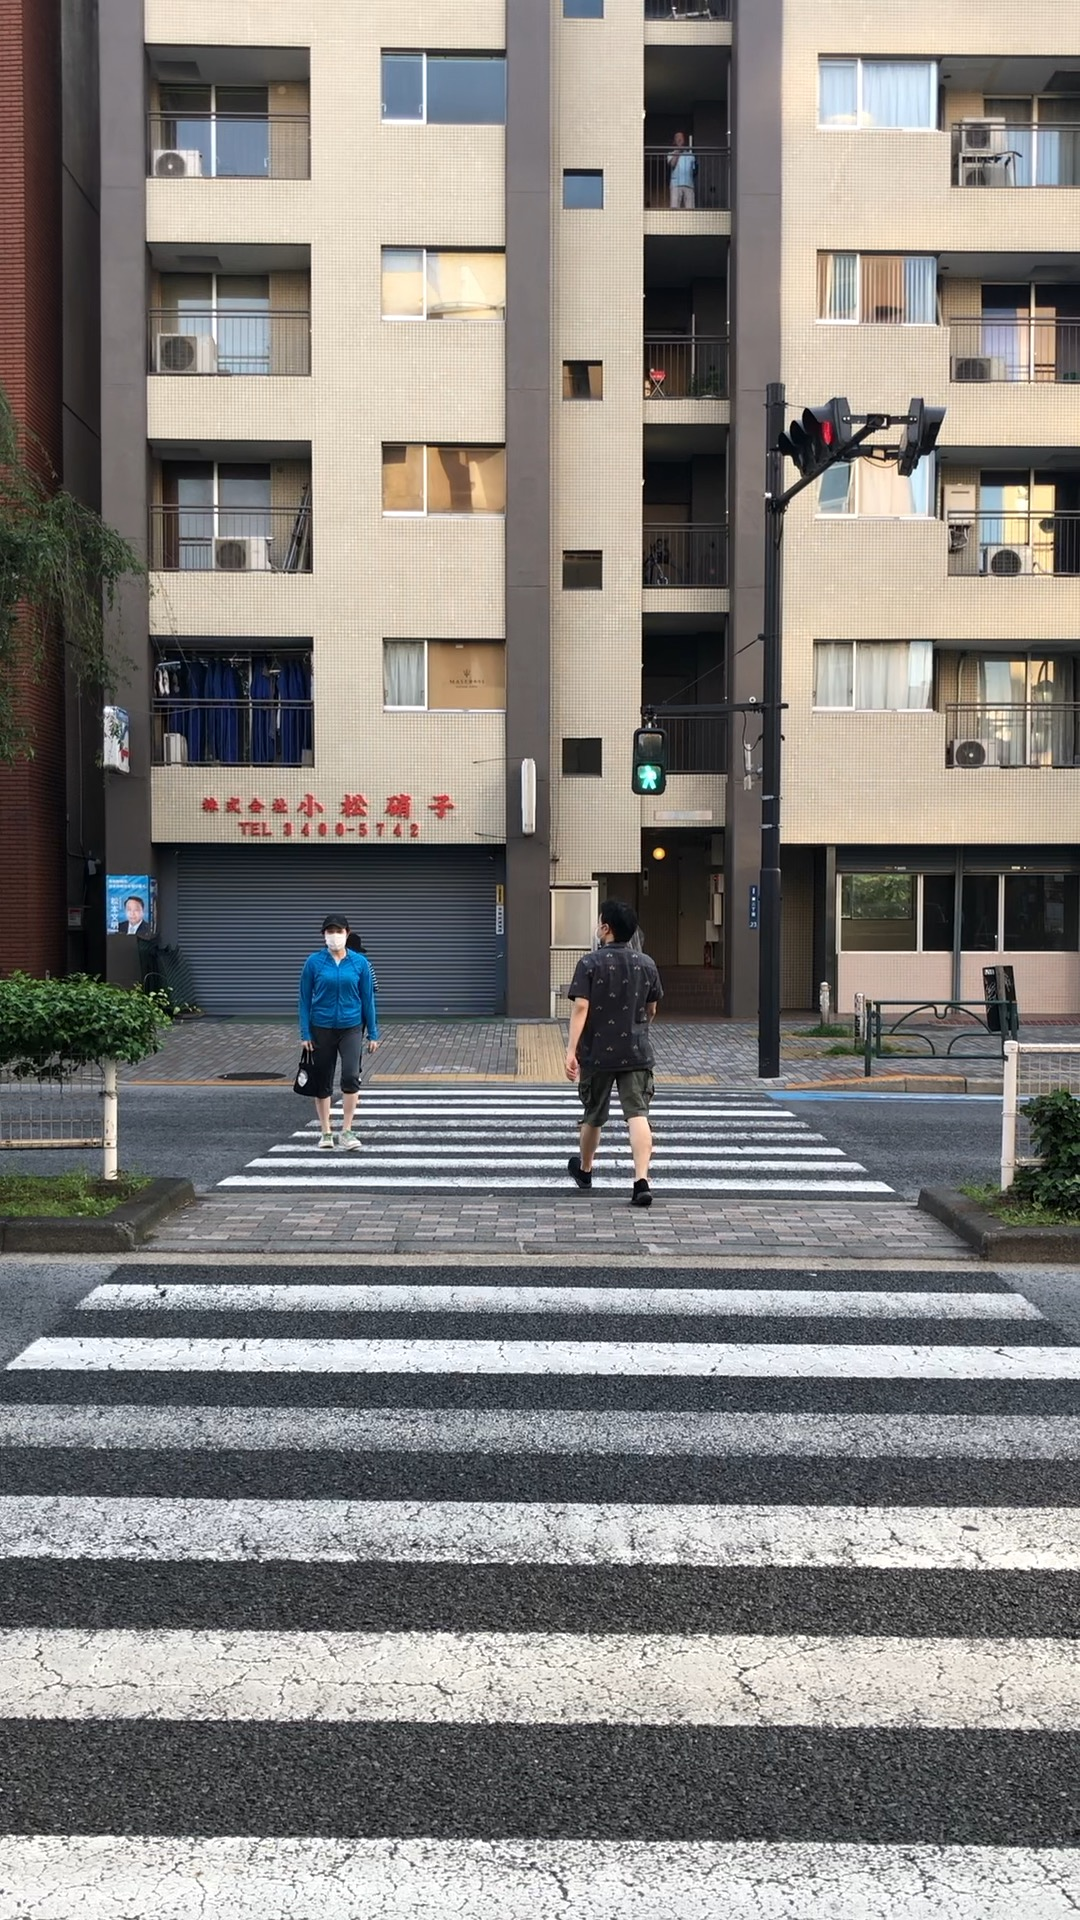green: (632, 727, 666, 796)
